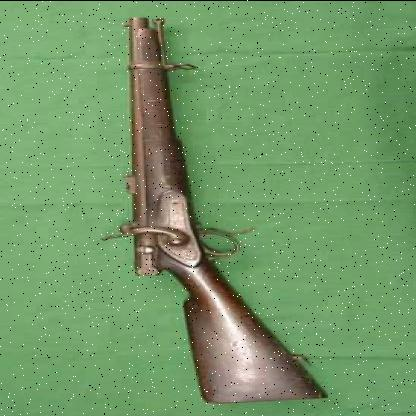rifle: (96, 8, 345, 409)
